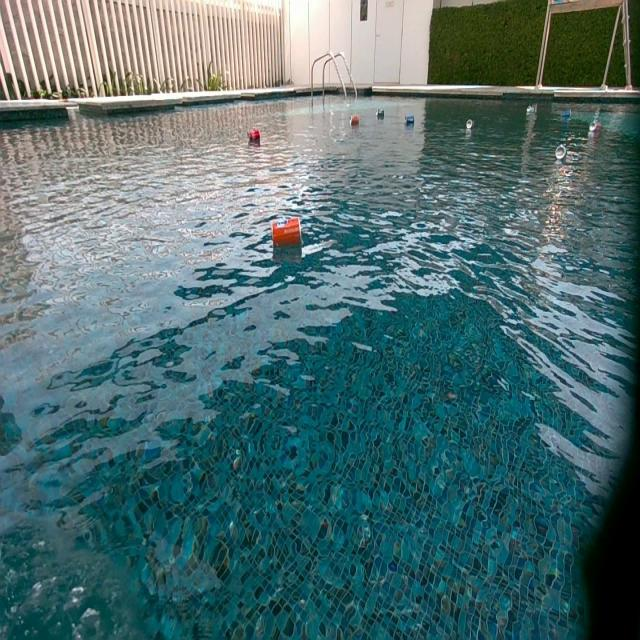Cans: (272, 215, 302, 248), (248, 130, 261, 144), (556, 145, 566, 161), (464, 120, 473, 136), (406, 114, 416, 124), (350, 114, 359, 125), (561, 110, 572, 119), (464, 118, 473, 128), (377, 108, 385, 119), (590, 122, 597, 133), (526, 105, 534, 114)
